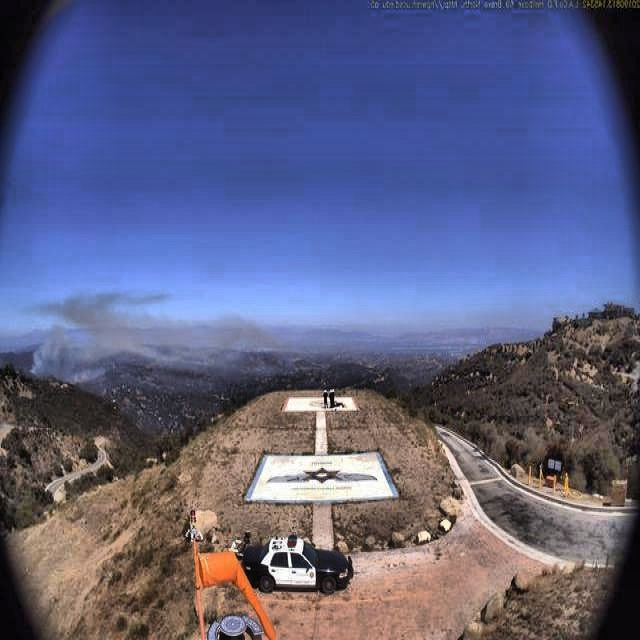smoke: (29, 291, 190, 380)
